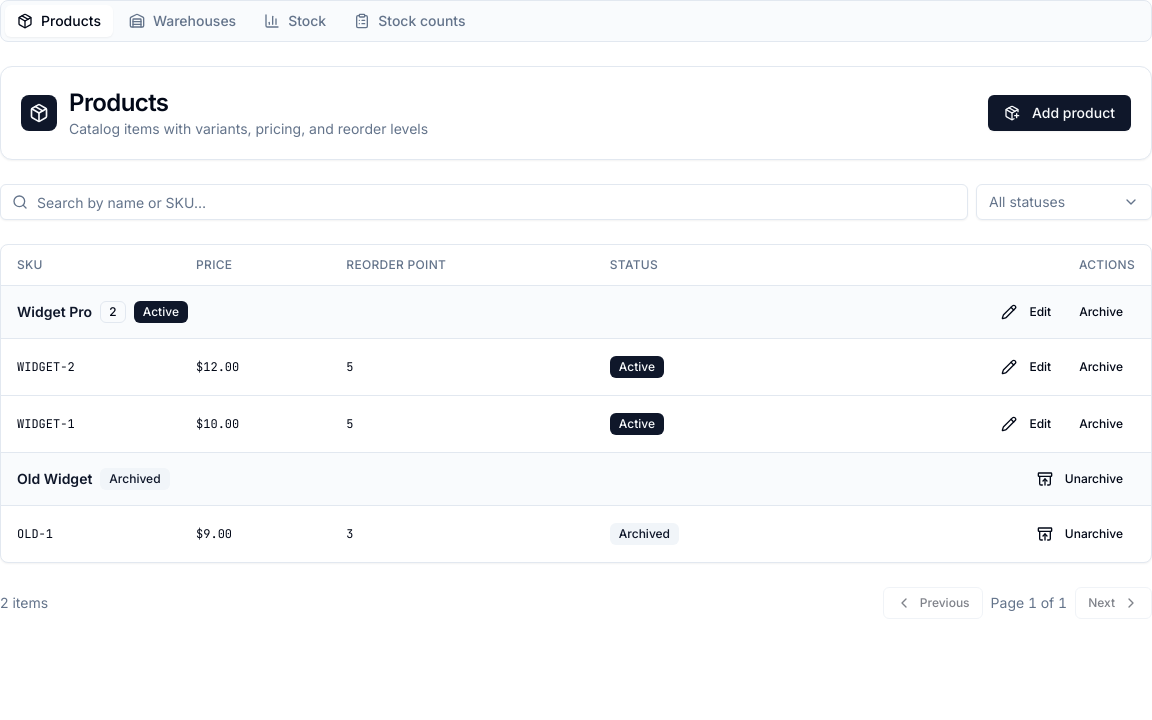
Scenario: ProductsView — grouped products table › archives ONE variant from its row after confirmation (INV-11)
What coordinates should you click on to do the following:
click the button "Archive" in the row of "WIDGET-2"
I would click on:
 (1101, 367)
Its box is [1067, 351, 1135, 383].
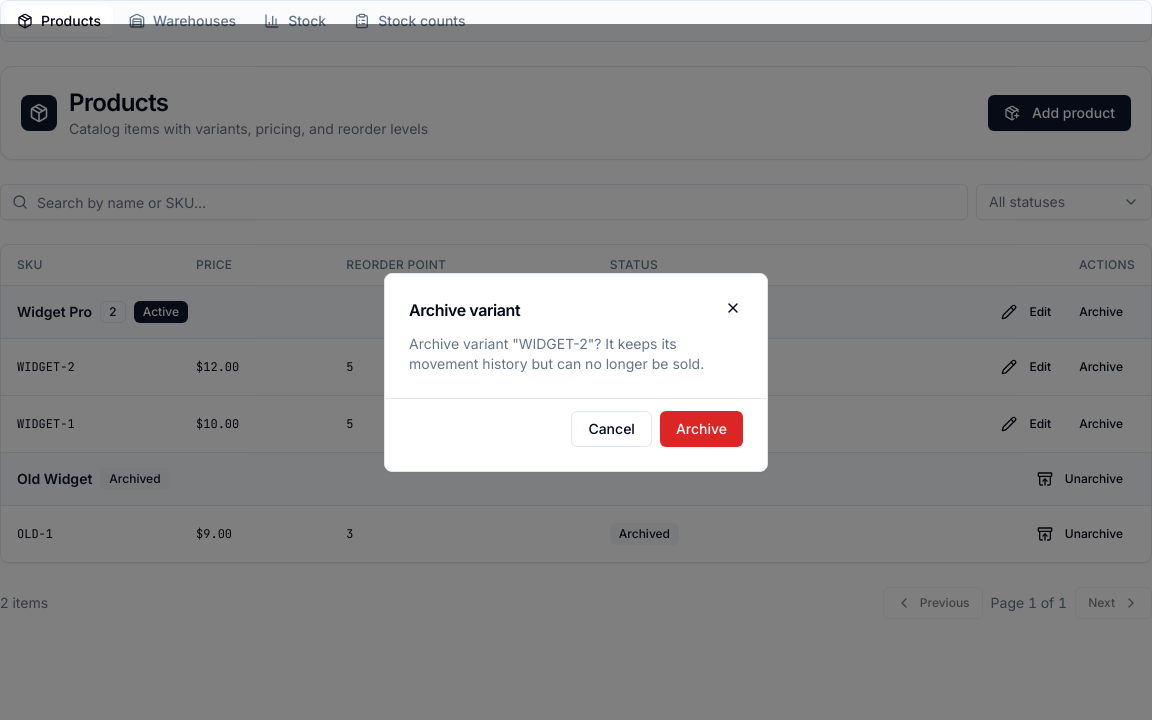
Result: the text "WIDGET-2" is shown at [409, 334, 704, 372]
What coordinates should you click on to do the following:
click the button "Archive"
I would click on:
 (701, 428)
Its box is [660, 410, 743, 446].
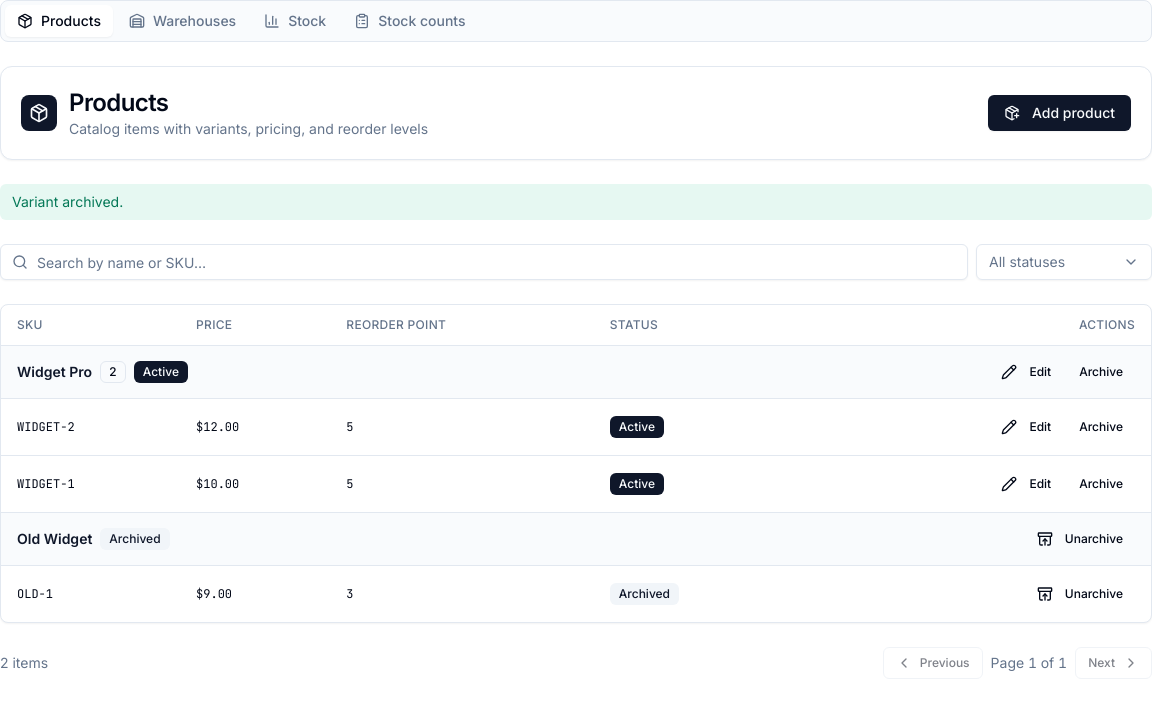
Result: the text "Variant archived." is shown at [0, 184, 1151, 220]
